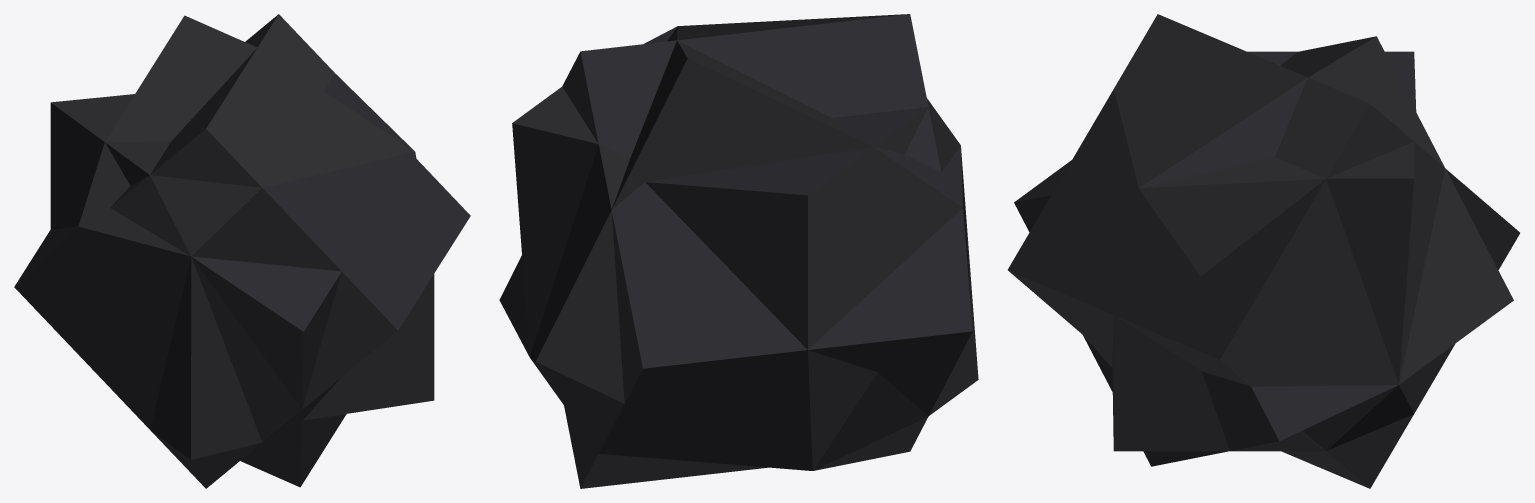
The model's file is Bomb.fbx.
The picture shows the model from 3 angles, left to right: view 1: azimuth 30°, elevation 25°; view 2: azimuth 150°, elevation 25°; view 3: azimuth 270°, elevation 25°; orthographic projection. The views are drawn at different scales.
Parts seen in each view (by area): view 1: Bomb; view 2: Bomb; view 3: Bomb.
Boxes of the visible parts, bbox=[...] form: Bomb: bbox=[14, 14, 470, 488]; Bomb: bbox=[499, 14, 978, 488]; Bomb: bbox=[1008, 14, 1519, 488].
Bounding box in the file's own units: 341 × 312 × 341.
